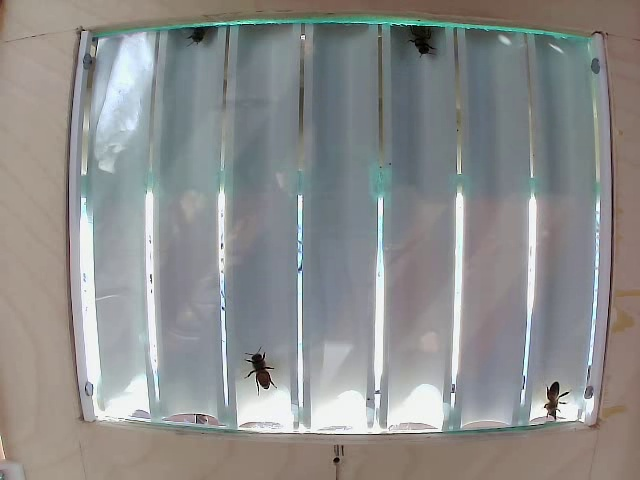bee: (538, 372, 579, 424), (411, 21, 444, 64), (244, 350, 292, 379)
